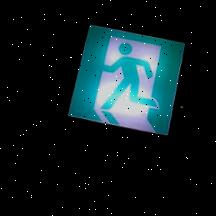emergency_exit: (67, 23, 186, 137)
